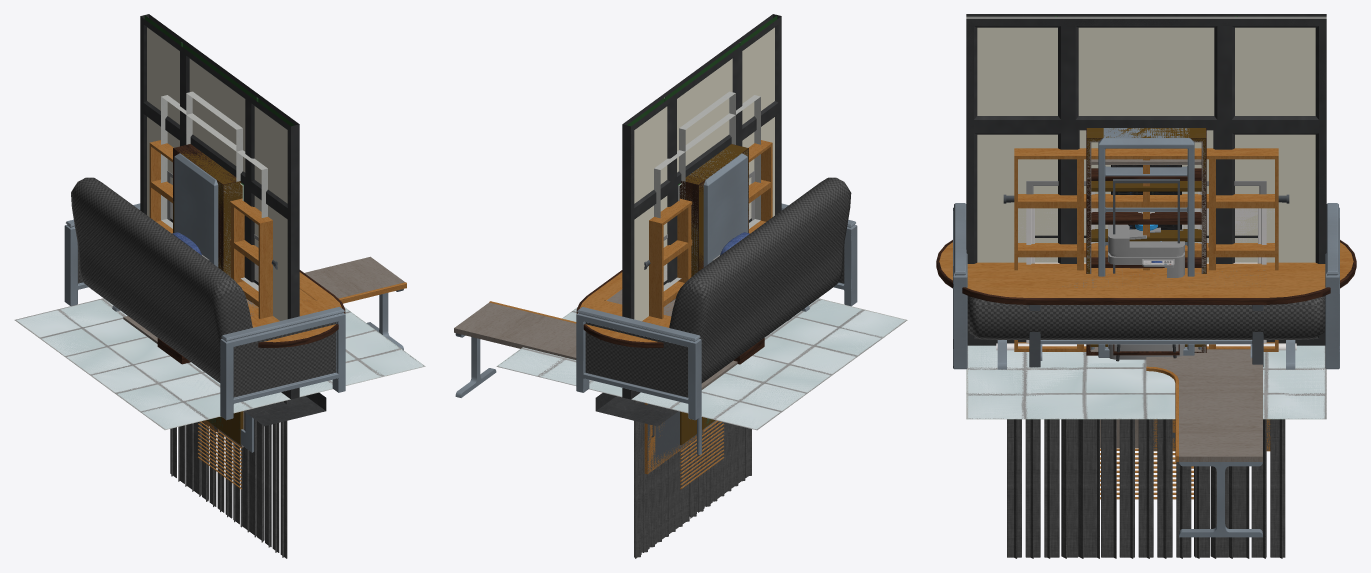
Rendered from Office_Asset_Pack.fbx.
3 views of the same model, side by side, from view 1: azimuth 30°, elevation 25°; view 2: azimuth 150°, elevation 25°; view 3: azimuth 270°, elevation 25° (orthographic). The views are drawn at different scales.
Parts seen in each view (by area): view 1: SM_Sofa_001, SM_Matte_Doorway_Drywall_Partition_001, SM_Gap_Ceiling_001, SM_Ceiling_001, SM_Blinds_Type_3_001, SM_Matte_Wall_001, SM_Rack_Type_1_001, SM_Server_Cabinet_001, SM_Blinds_Type_4_001, SM_Table_Type_2_001, SM_Conference_001, SM_Closet_Type_1_001 (+7 smaller); view 2: SM_Sofa_001, SM_Matte_Doorway_Drywall_Partition_001, SM_Ceiling_001, SM_Gap_Ceiling_001, SM_Blinds_Type_4_001, SM_Table_Type_2_001, SM_Rack_Type_1_001, SM_Blinds_Type_3_001, SM_Server_Cabinet_001, SM_Matte_Wall_001, SM_Conference_001, SM_Closet_Type_1_001 (+8 smaller); view 3: SM_Matte_Doorway_Drywall_Partition_001, SM_Matte_Wall_001, SM_Blinds_Type_3_001, SM_Sofa_001, SM_Conference_001, SM_Gap_Ceiling_001, SM_Table_Type_2_001, SM_Ceiling_001, SM_Rack_Type_1_001, SM_Blinds_Type_4_001, SM_Server_Cabinet_001, SM_Standing_Printer_001 (+9 smaller).
Boxes of the visible parts, <box> form: SM_Sofa_001: <box>64,177,345,420</box>; SM_Matte_Doorway_Drywall_Partition_001: <box>140,14,299,399</box>; SM_Gap_Ceiling_001: <box>15,298,425,429</box>; SM_Ceiling_001: <box>14,298,424,429</box>; SM_Blinds_Type_3_001: <box>170,400,287,558</box>; SM_Matte_Wall_001: <box>140,15,299,398</box>; SM_Rack_Type_1_001: <box>149,140,272,318</box>; SM_Server_Cabinet_001: <box>174,153,218,266</box>; SM_Blinds_Type_4_001: <box>171,401,283,557</box>; SM_Table_Type_2_001: <box>123,256,406,350</box>; SM_Conference_001: <box>112,270,345,347</box>; SM_Closet_Type_1_001: <box>173,147,242,276</box>; SM_Sofa_001: <box>576,177,857,420</box>; SM_Matte_Doorway_Drywall_Partition_001: <box>622,14,781,399</box>; SM_Ceiling_001: <box>497,298,907,430</box>; SM_Gap_Ceiling_001: <box>497,299,906,429</box>; SM_Blinds_Type_4_001: <box>634,400,751,557</box>; SM_Table_Type_2_001: <box>454,301,737,454</box>; SM_Rack_Type_1_001: <box>649,140,772,318</box>; SM_Blinds_Type_3_001: <box>635,400,748,558</box>; SM_Server_Cabinet_001: <box>689,150,747,267</box>; SM_Matte_Wall_001: <box>622,14,780,399</box>; SM_Conference_001: <box>576,270,809,348</box>; SM_Closet_Type_1_001: <box>679,144,748,276</box>; SM_Matte_Doorway_Drywall_Partition_001: <box>966,14,1326,345</box>; SM_Matte_Wall_001: <box>966,14,1326,345</box>; SM_Blinds_Type_3_001: <box>996,343,1296,557</box>; SM_Sofa_001: <box>953,203,1339,369</box>; SM_Conference_001: <box>936,240,1356,369</box>; SM_Gap_Ceiling_001: <box>966,345,1326,419</box>; SM_Table_Type_2_001: <box>1146,349,1262,537</box>; SM_Ceiling_001: <box>966,345,1326,419</box>; SM_Rack_Type_1_001: <box>1014,148,1278,351</box>; SM_Blinds_Type_4_001: <box>1014,419,1282,558</box>; SM_Server_Cabinet_001: <box>1098,128,1194,357</box>; SM_Standing_Printer_001: <box>1108,224,1208,359</box>.
Size of the model in its own units: 379 by 493 by 350.
